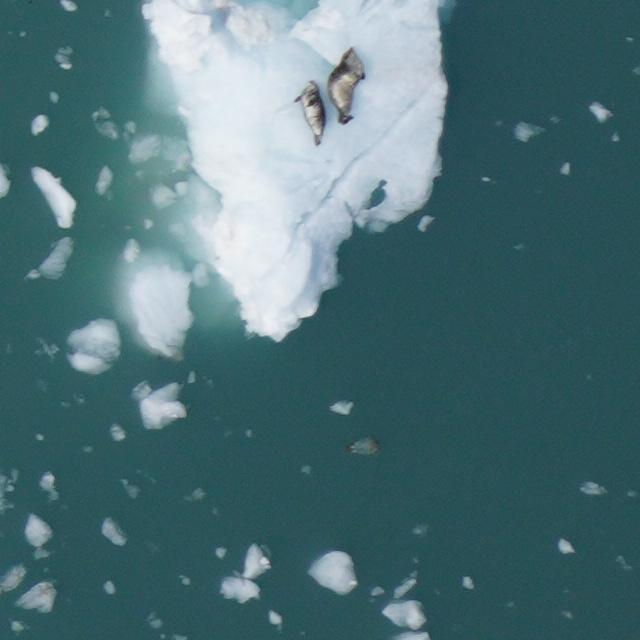seal: (327, 47, 366, 123), (293, 80, 326, 147)
